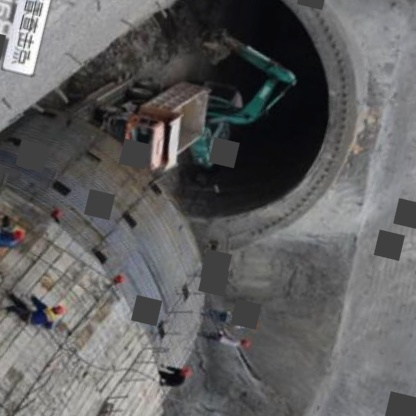red: (11, 228, 29, 245), (54, 305, 67, 321), (182, 369, 195, 379), (242, 340, 253, 351), (250, 321, 259, 331)
